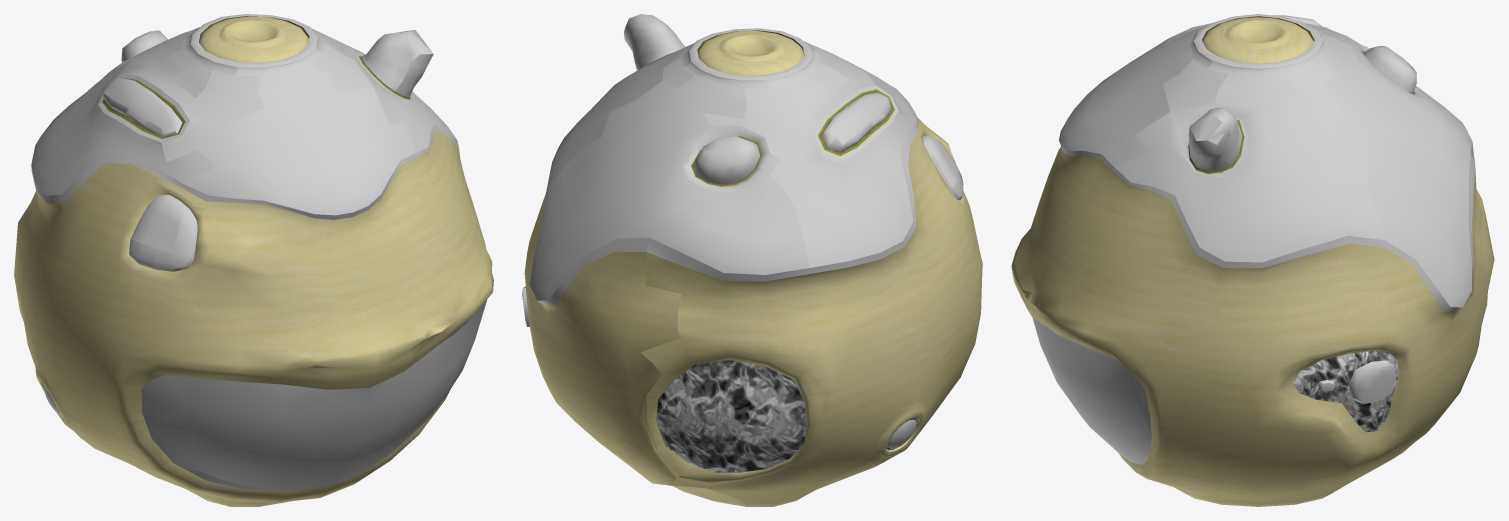
Rendered from cocotwinb.dae.
3 views of the same model, side by side, from view 1: azimuth 30°, elevation 25°; view 2: azimuth 150°, elevation 25°; view 3: azimuth 270°, elevation 25° (orthographic). The views are drawn at different scales.
Parts seen in each view (by area): view 1: n2b3, n1b4, n5b1, n4b7, n3b5, n6b8; view 2: n2b3, n1b4, n7b0, n4b7, n3b5, n6b8; view 3: n2b3, n1b4, n5b1, n4b7, n3b5, n7b0, n6b8.
Part boxes in pixels (x1,y1,x2,y2): n2b3: (14,16,493,506); n1b4: (31,14,456,416); n5b1: (141,299,487,491); n4b7: (103,30,433,136); n3b5: (31,124,458,271); n6b8: (102,16,410,138); n2b3: (524,30,982,506); n1b4: (522,28,963,448); n7b0: (656,360,917,472); n4b7: (624,14,891,184); n3b5: (534,116,961,304); n6b8: (649,30,894,186); n2b3: (1011,17,1494,506); n1b4: (1059,14,1472,403); n5b1: (1032,318,1151,464); n4b7: (1188,15,1416,170); n3b5: (1060,142,1475,402); n7b0: (1293,351,1398,432); n6b8: (1188,16,1414,173).
Bounding box in the file's own units: 2049 × 2231 × 2141.
